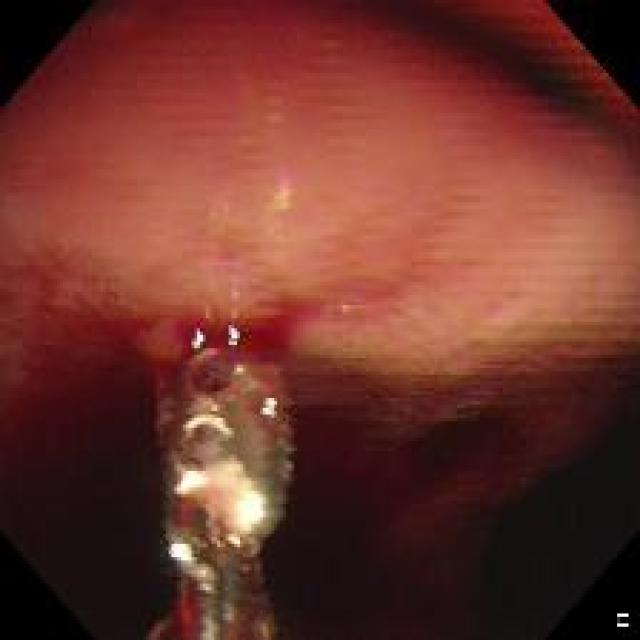blur: (2, 2, 638, 348)
color misalignment: (195, 246, 285, 322), (392, 404, 447, 435), (321, 293, 372, 324), (269, 176, 301, 225), (453, 389, 492, 423), (192, 563, 218, 602), (208, 190, 232, 225), (199, 617, 219, 640), (229, 360, 249, 379), (200, 370, 218, 390), (189, 532, 204, 552), (210, 538, 226, 556), (221, 391, 236, 407)
contrast: (6, 346, 636, 633), (387, 11, 616, 130)
instrument: (157, 346, 293, 632)
specularity: (235, 488, 272, 536), (261, 393, 292, 428), (176, 466, 207, 500), (218, 314, 244, 354), (173, 541, 195, 563), (193, 324, 207, 354)
